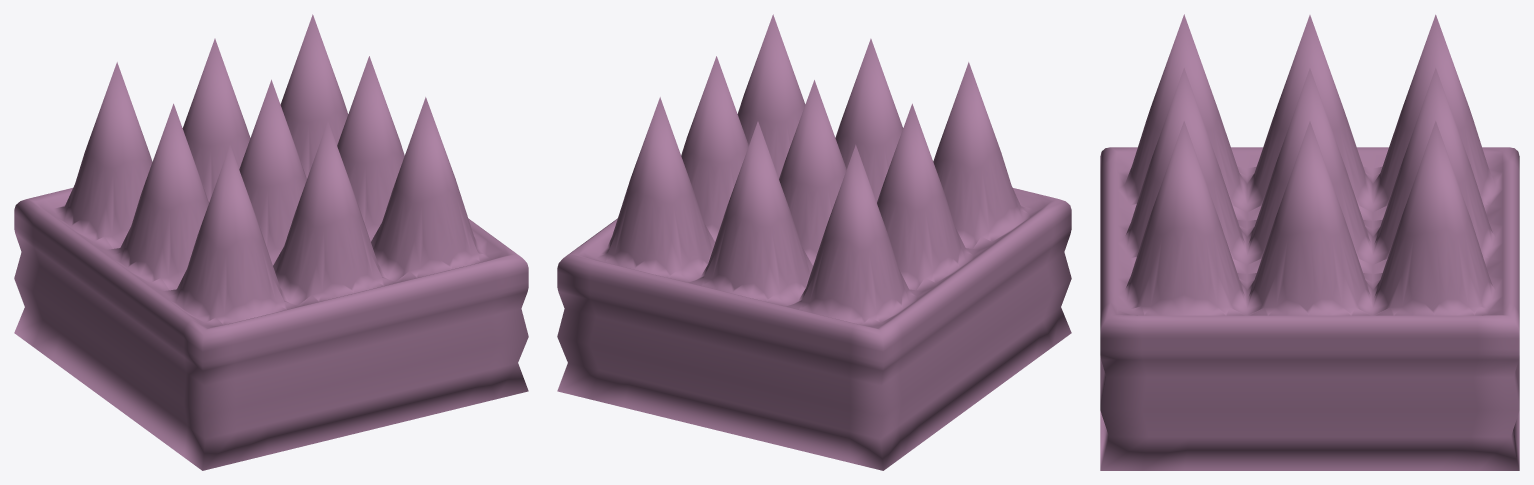
File: Killer.fbx
3 views of the same model, side by side, from view 1: azimuth 30°, elevation 25°; view 2: azimuth 150°, elevation 25°; view 3: azimuth 270°, elevation 25° (orthographic). The views are drawn at different scales.
Visible parts, largest first — view 1: pCone11; view 2: pCone11; view 3: pCone11.
Boxes of the visible parts, x1=… form: pCone11: x1=14, y1=14, x2=528, y2=470; pCone11: x1=557, y1=14, x2=1071, y2=470; pCone11: x1=1100, y1=14, x2=1519, y2=470.
Size of the model in its own units: 2 by 1.66 by 2.
